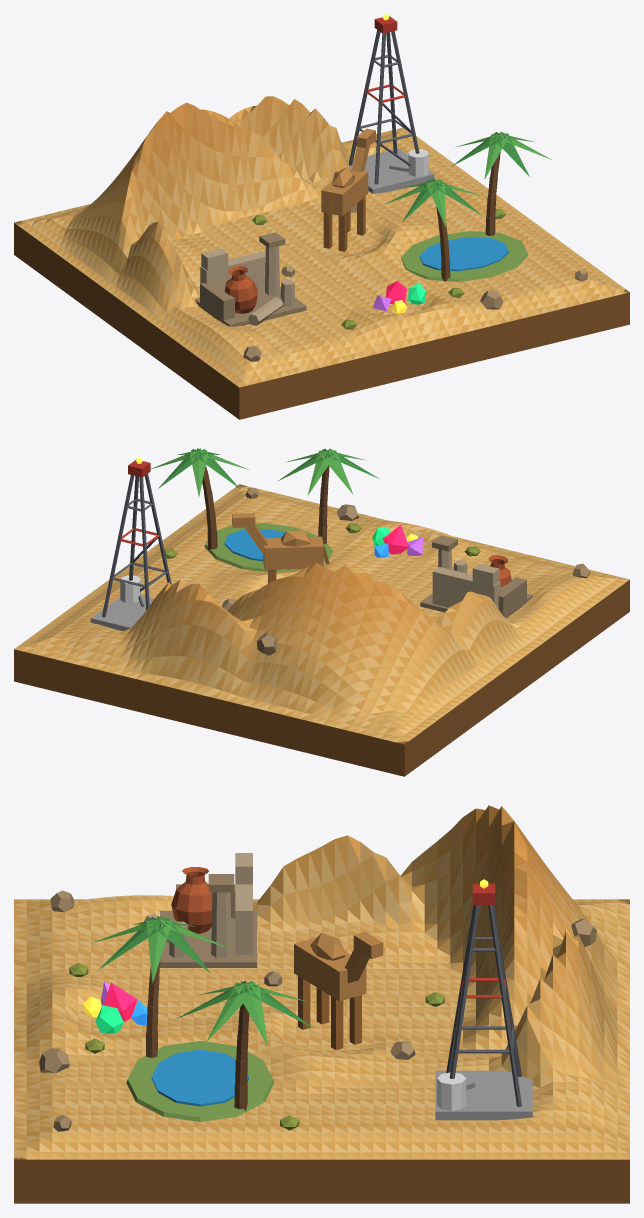
File: diorama.glb
The picture shows the model from 3 angles, top to bottom: view 1: azimuth 30°, elevation 25°; view 2: azimuth 150°, elevation 25°; view 3: azimuth 270°, elevation 25°; orthographic projection. The views are drawn at different scales.
Parts seen in each view (by area): view 1: SandGround, Base, Grass, Pool, DerrickPad, RuinWall1, CamelBody, ClayJar, RuinFloor, RuinWall2, Column1, Leg3 (+1 smaller); view 2: SandGround, Base, RuinWall1, CamelBody, Grass, DerrickPad, Pool, RuinWall2, Leg1, Leg2, RuinWall1Top, Leg3 (+2 smaller); view 3: SandGround, Base, Grass, Pool, DerrickPad, CamelBody, RuinFloor, ClayJar, Column1, RuinWall1, Leg1, Tank (+14 smaller).
Boxes of the visible parts, x1=… form: SandGround: x1=15, y1=96, x2=628, y2=387; Base: x1=14, y1=220, x2=629, y2=419; Grass: x1=401, y1=231, x2=528, y2=281; Pool: x1=419, y1=237, x2=508, y2=271; DerrickPad: x1=348, y1=148, x2=434, y2=193; RuinWall1: x1=200, y1=251, x2=265, y2=290; CamelBody: x1=321, y1=168, x2=368, y2=216; ClayJar: x1=224, y1=266, x2=257, y2=313; RuinFloor: x1=195, y1=287, x2=306, y2=326; RuinWall2: x1=200, y1=282, x2=234, y2=320; Column1: x1=265, y1=246, x2=279, y2=295; Leg3: x1=374, y1=33, x2=385, y2=184; SandGround: x1=14, y1=484, x2=629, y2=743; Base: x1=14, y1=484, x2=629, y2=776; RuinWall1: x1=432, y1=567, x2=500, y2=608; CamelBody: x1=263, y1=536, x2=323, y2=569; Grass: x1=204, y1=523, x2=332, y2=572; DerrickPad: x1=90, y1=595, x2=153, y2=630; Pool: x1=224, y1=528, x2=285, y2=561; RuinWall2: x1=498, y1=577, x2=526, y2=618; Leg1: x1=102, y1=475, x2=134, y2=617; Leg2: x1=139, y1=477, x2=149, y2=610; RuinWall1Top: x1=472, y1=563, x2=499, y2=586; Leg3: x1=144, y1=474, x2=171, y2=585; SandGround: x1=14, y1=805, x2=629, y2=1159; Base: x1=14, y1=899, x2=629, y2=1203; Grass: x1=126, y1=1040, x2=274, y2=1121; Pool: x1=151, y1=1049, x2=248, y2=1106; DerrickPad: x1=435, y1=1070, x2=532, y2=1120; CamelBody: x1=294, y1=937, x2=366, y2=1001; RuinFloor: x1=160, y1=910, x2=256, y2=967; ClayJar: x1=171, y1=867, x2=212, y2=933; Column1: x1=211, y1=892, x2=231, y2=957; RuinWall1: x1=235, y1=884, x2=252, y2=954; Leg1: x1=488, y1=905, x2=521, y2=1106; Tank: x1=437, y1=1072, x2=466, y2=1110.
Size of the model in its own units: 0.38 by 0.1876 by 0.38.
